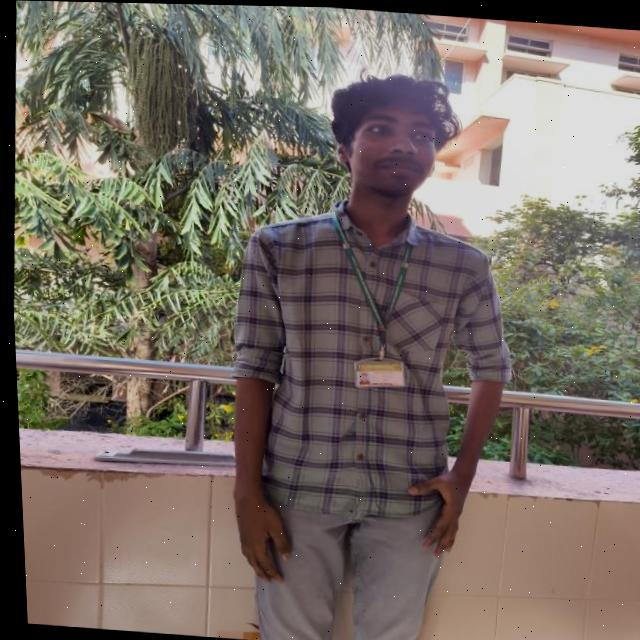id_card: (321, 209, 428, 398)
